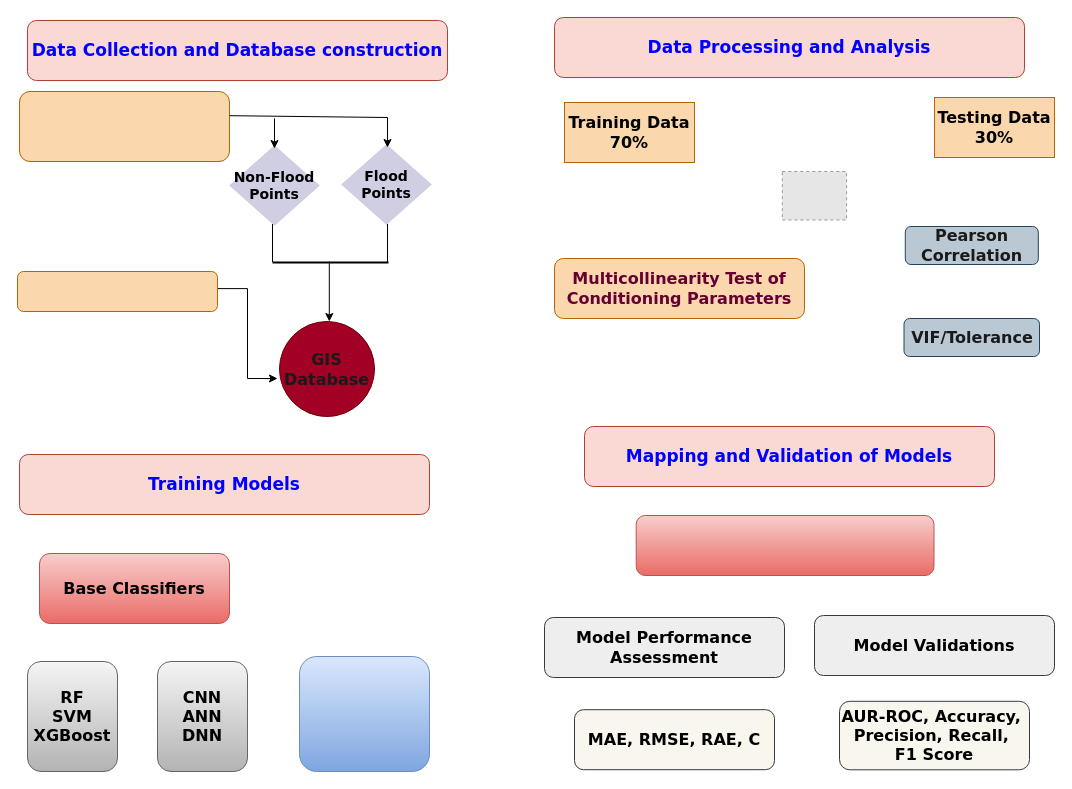
This 1072x789 diagram has some shape labels left out. Grey dashed boxes stand in for pictures. Here are the shapes that lost their labels. From the top down, the box of each, then its label:
(18, 90, 230, 162): Storm Surge Flood Inventory Map
(16, 270, 218, 312): Conditioning Parameters
(635, 514, 934, 576): Storm Surge Flood Susceptibility Maps
(298, 656, 430, 772): Stacked (Meta-model )
